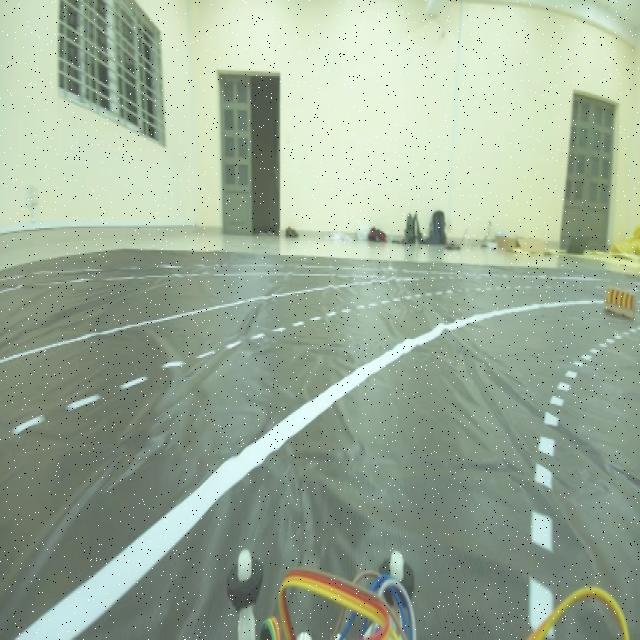roadblock: (598, 272, 638, 326)
